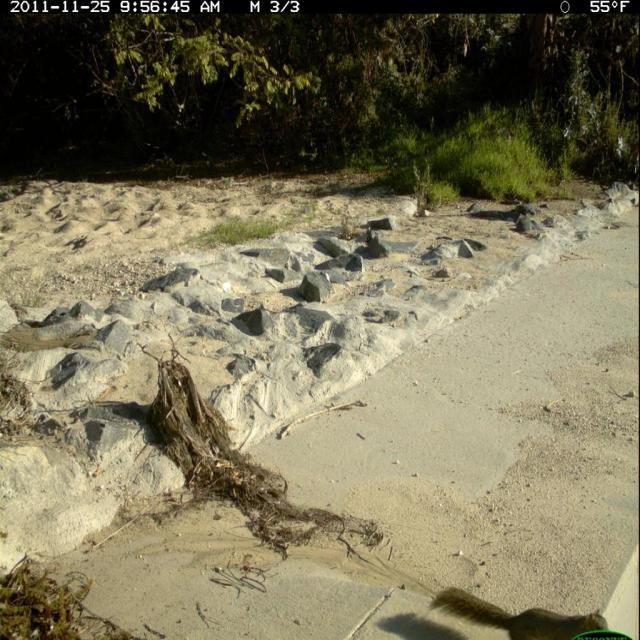squirrel: (418, 575, 615, 640)
